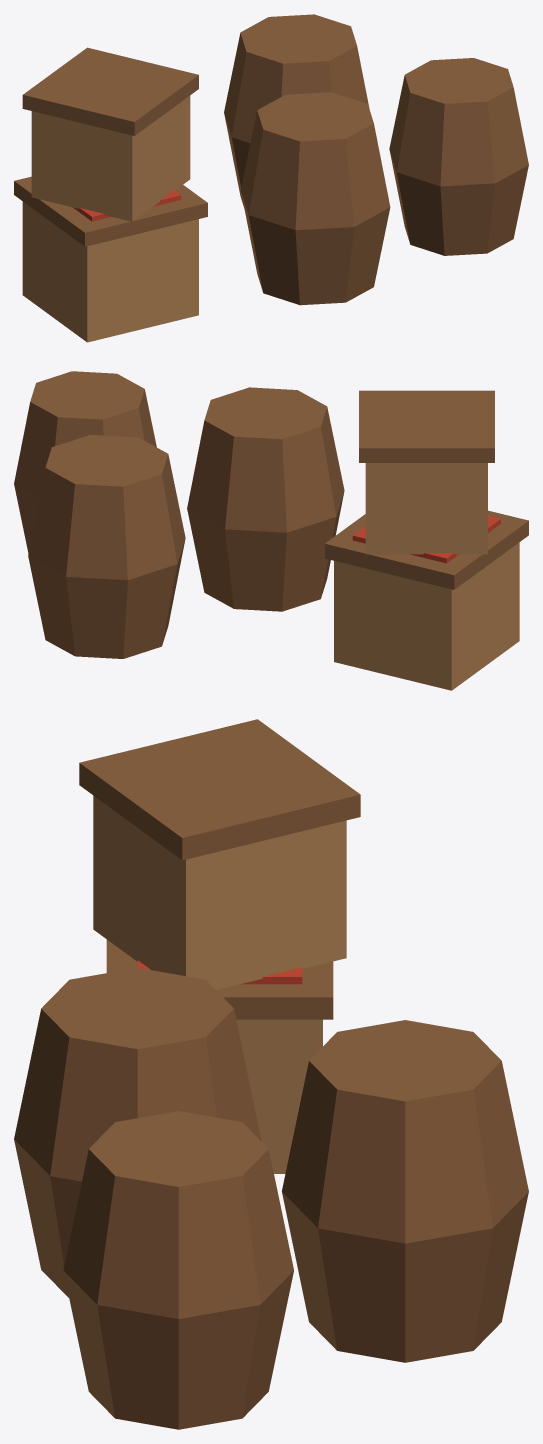
File: barrel_cluster.fbx
3 views of the same model, one above another, from view 1: azimuth 30°, elevation 25°; view 2: azimuth 150°, elevation 25°; view 3: azimuth 270°, elevation 25° (orthographic). The views are drawn at different scales.
Visible parts, largest first — view 1: barrel_cluster; view 2: barrel_cluster; view 3: barrel_cluster.
Boxes of the visible parts, bbox=[...] form: barrel_cluster: bbox=[14, 14, 528, 342]; barrel_cluster: bbox=[14, 371, 528, 690]; barrel_cluster: bbox=[14, 719, 528, 1429].
Bounding box in the file's own units: 2.12 × 0.9425 × 1.25.
